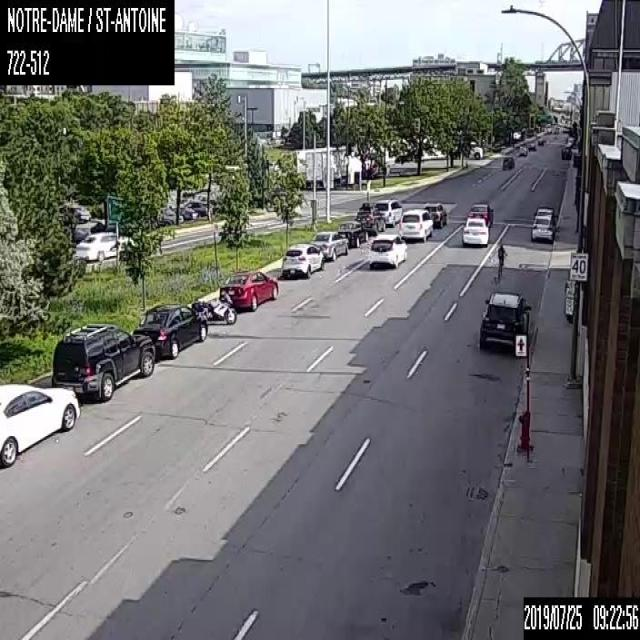cyclist: (495, 243, 507, 280)
vehicle: (51, 321, 155, 399), (0, 383, 78, 465), (132, 302, 208, 356), (478, 290, 531, 354), (220, 268, 278, 309), (417, 134, 482, 158), (282, 241, 324, 276), (75, 231, 122, 261), (369, 232, 407, 269), (191, 292, 236, 322), (398, 208, 433, 242), (310, 229, 348, 259), (356, 200, 385, 235), (461, 215, 490, 245), (374, 198, 403, 226), (338, 219, 368, 245), (530, 213, 555, 242), (422, 200, 447, 227), (466, 202, 493, 226), (501, 156, 514, 170), (560, 146, 571, 159), (517, 144, 526, 156), (537, 137, 545, 145), (527, 142, 536, 149)
